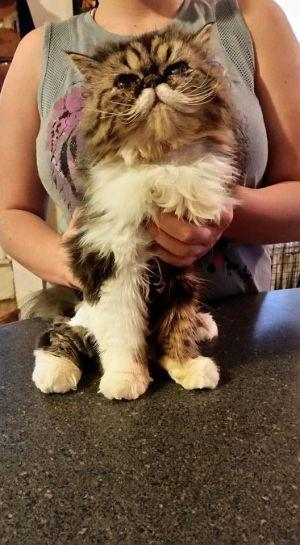persian: (71, 20, 232, 157)
